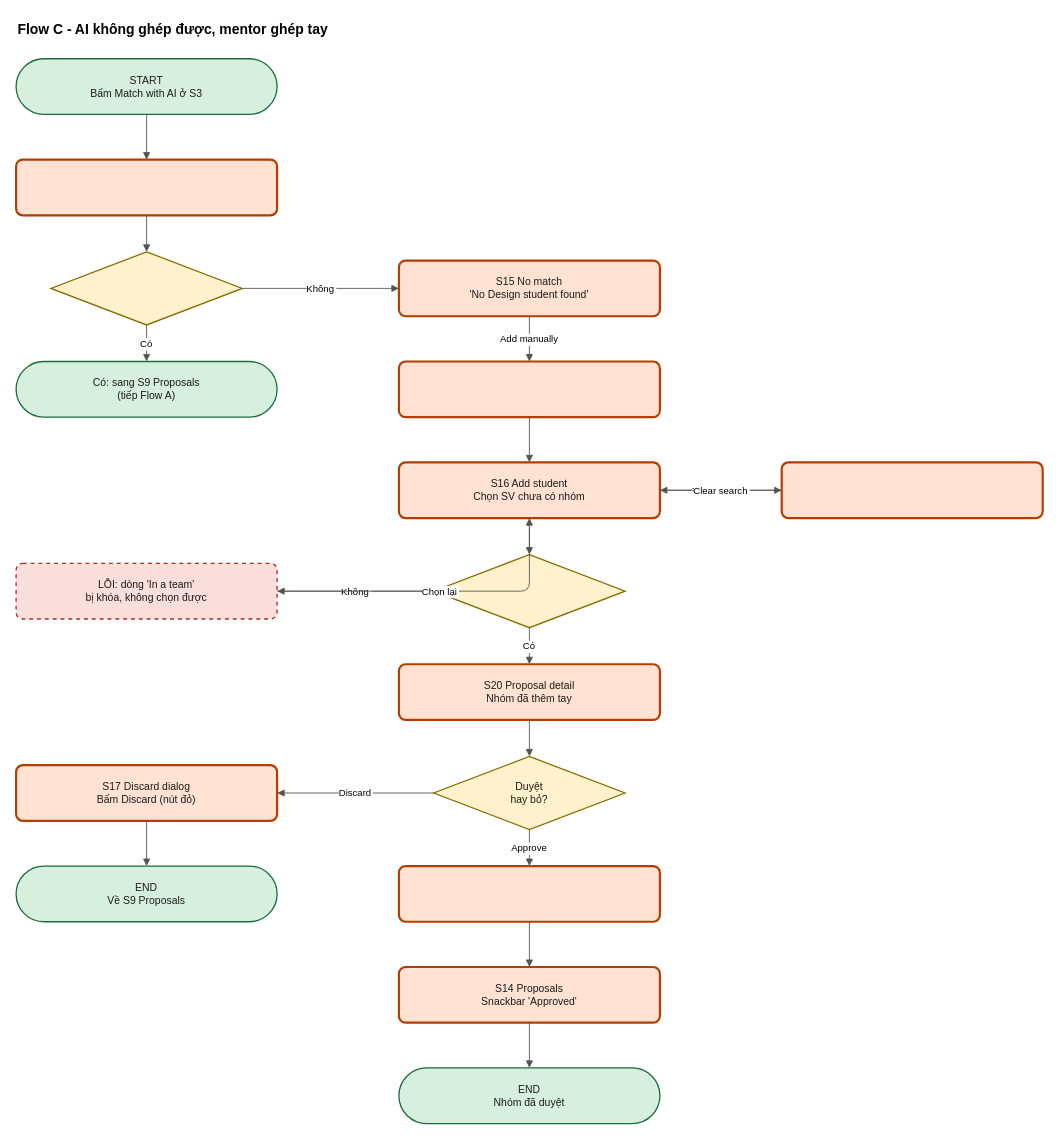
Some shapes in this 1059 by 1139 pixel diagram are drawn without their labels. Here are the shapes that lost their labels. From the top down, the centre of each, then its label:
(x=146, y=187): S8 AI matching Chờ kết quả
(x=146, y=288): AI tìm được SV phù hợp?
(x=529, y=389): S5 Need members Xem nhóm còn thiếu ngành
(x=911, y=490): S21 Add student Không có kết quả
(x=529, y=591): SV chưa có nhóm?
(x=529, y=893): S12 Approve dialog Bấm Approve
